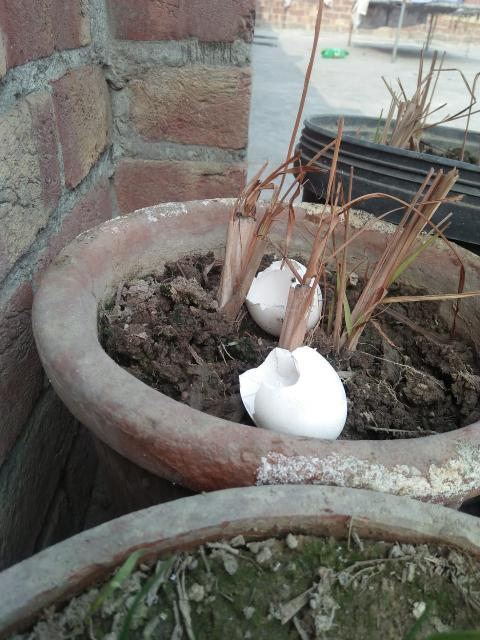Roto: (238, 344, 348, 440), (244, 257, 323, 337)
